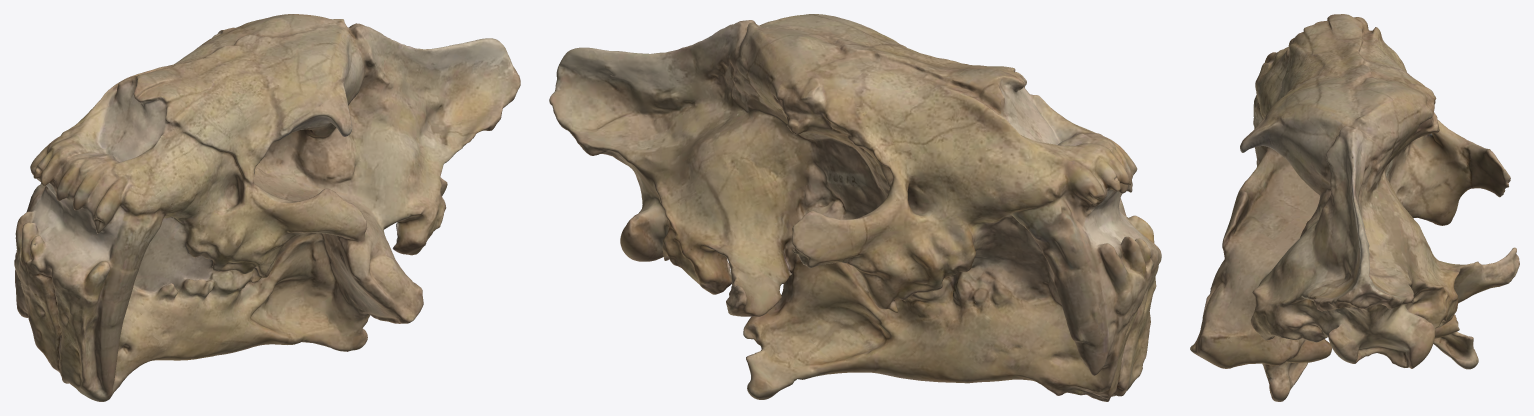
3 views of the same model, side by side, from view 1: azimuth 30°, elevation 25°; view 2: azimuth 150°, elevation 25°; view 3: azimuth 270°, elevation 25° (orthographic). The views are drawn at different scales.
Parts seen in each view (by area): view 1: Hoplophoneus_primaevus_latidens_Thorpe-unwrapped-webmulti; view 2: Hoplophoneus_primaevus_latidens_Thorpe-unwrapped-webmulti; view 3: Hoplophoneus_primaevus_latidens_Thorpe-unwrapped-webmulti.
Boxes of the visible parts, box(x1,y1,x2,y2) form: Hoplophoneus_primaevus_latidens_Thorpe-unwrapped-webmulti: box(14, 14, 520, 401); Hoplophoneus_primaevus_latidens_Thorpe-unwrapped-webmulti: box(549, 14, 1161, 401); Hoplophoneus_primaevus_latidens_Thorpe-unwrapped-webmulti: box(1190, 14, 1519, 401).
Bounding box in the file's own units: 7179 × 4063 × 4003.
1 material, 1 textured.
